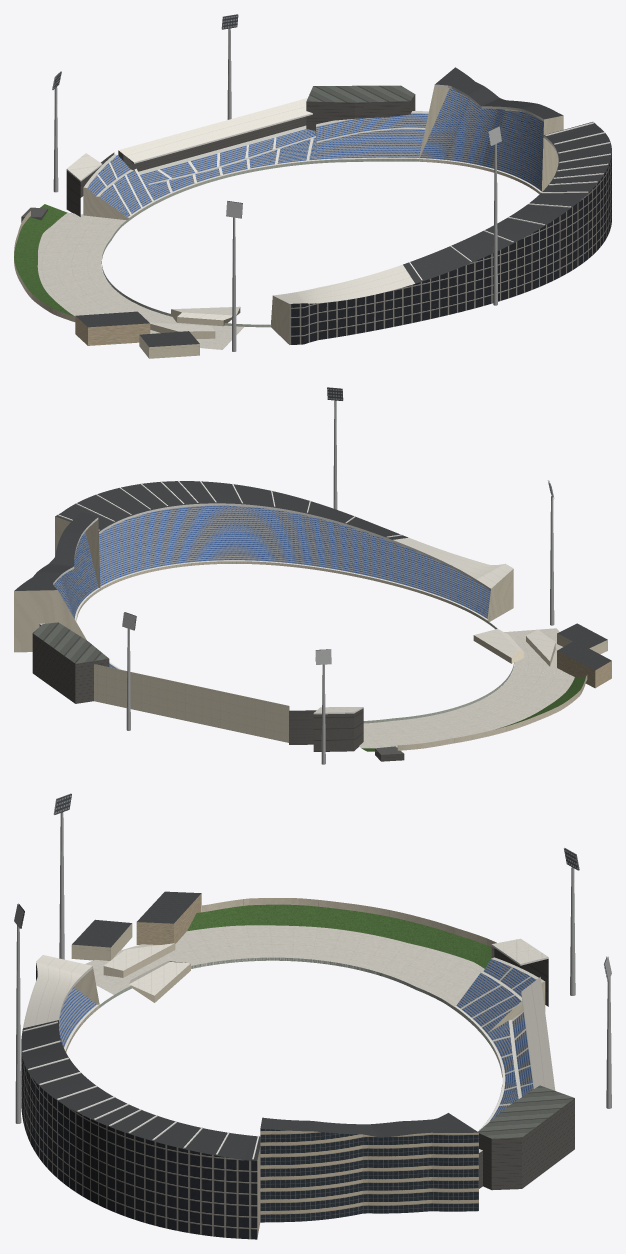
The model's file is subiaco_B2_wip.glb.
3 renders of one model, top to bottom at view 1: azimuth 30°, elevation 25°; view 2: azimuth 150°, elevation 25°; view 3: azimuth 270°, elevation 25°, orthographic. The views are drawn at different scales.
Parts seen in each view (by area): view 1: subiacoB; view 2: subiacoB; view 3: subiacoB.
Boxes of the visible parts, x1=… form: subiacoB: x1=14, y1=14, x2=611, y2=358; subiacoB: x1=14, y1=387, x2=611, y2=764; subiacoB: x1=14, y1=793, x2=611, y2=1239.
Bounding box in the file's own units: 245 × 75.3 × 190.
Materials: 17 (17 with a texture image).
